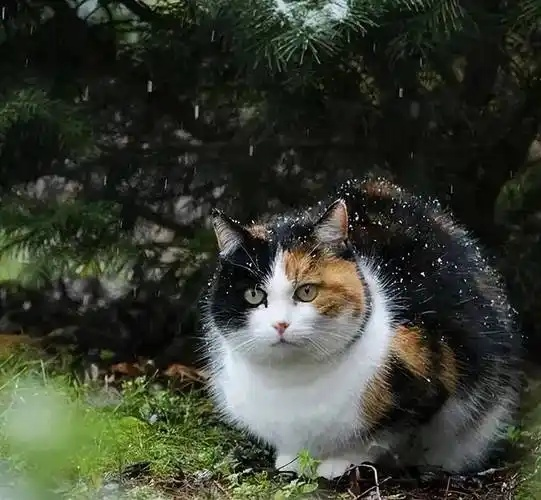三花猫: (205, 200, 393, 475)
